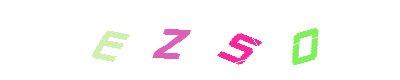E: (87, 0, 167, 80)
O: (265, 0, 345, 80)
S: (167, 0, 247, 80)
Z: (159, 0, 239, 80)
